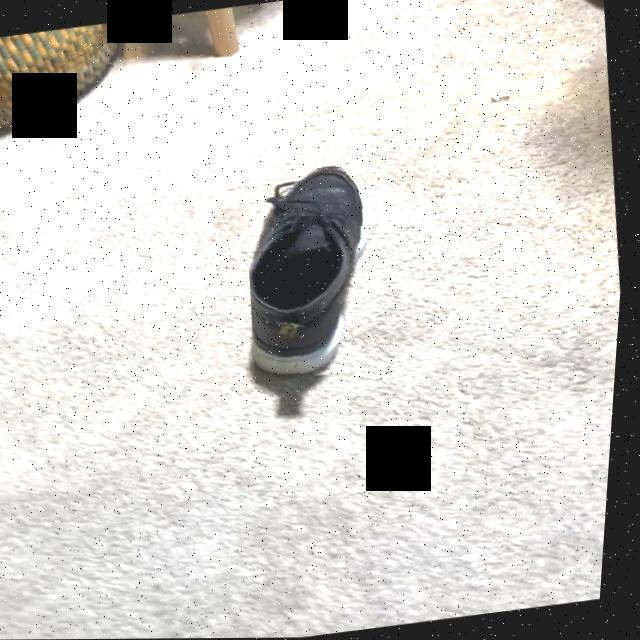shoe: (253, 169, 376, 381)
